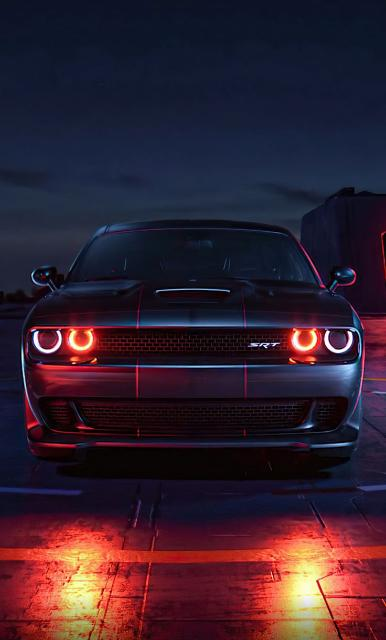dodge: (18, 215, 366, 471)
